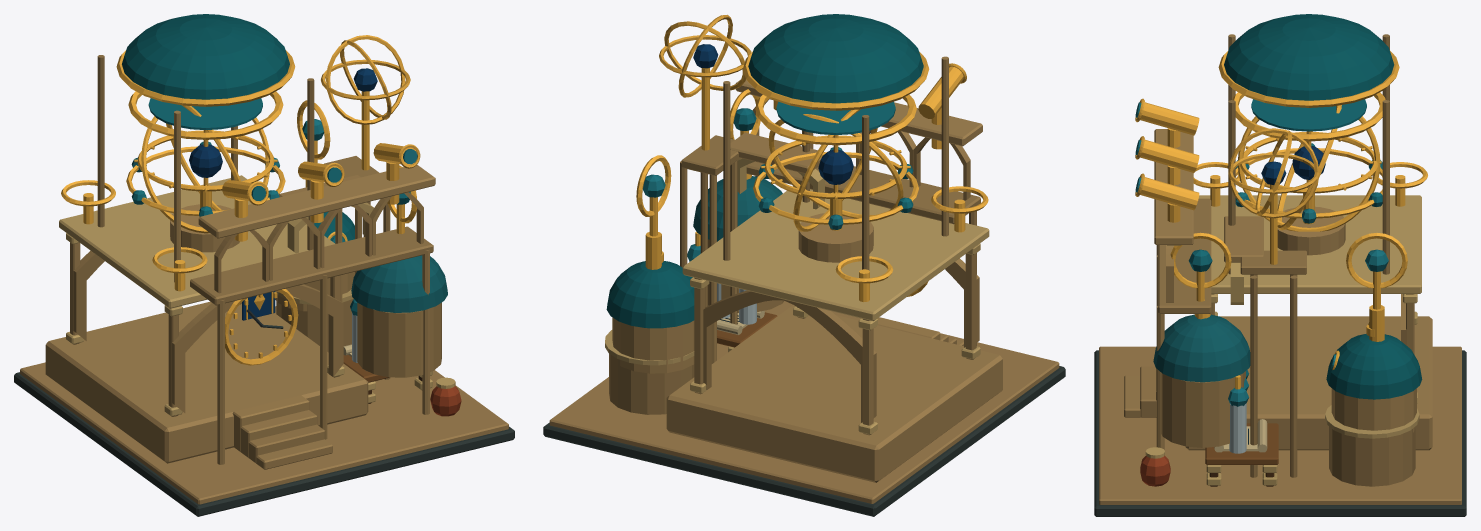
The picture shows the model from 3 angles, left to right: view 1: azimuth 30°, elevation 25°; view 2: azimuth 150°, elevation 25°; view 3: azimuth 270°, elevation 25°; orthographic projection. The views are drawn at different scales.
Parts seen in each view (by area): view 1: laboratory_level14_structure, laboratory_level14_metal; view 2: laboratory_level14_structure, laboratory_level14_metal; view 3: laboratory_level14_structure, laboratory_level14_metal.
Boxes of the visible parts, left/top/right/bottom form: laboratory_level14_structure: left=14, top=14, right=514, bottom=516; laboratory_level14_metal: left=61, top=35, right=420, bottom=365; laboratory_level14_structure: left=543, top=14, right=1065, bottom=516; laboratory_level14_metal: left=636, top=14, right=988, bottom=302; laboratory_level14_structure: left=1094, top=14, right=1466, bottom=516; laboratory_level14_metal: left=1135, top=51, right=1427, bottom=389.
Size of the model in its own units: 5.6 by 6.46 by 5.6.
